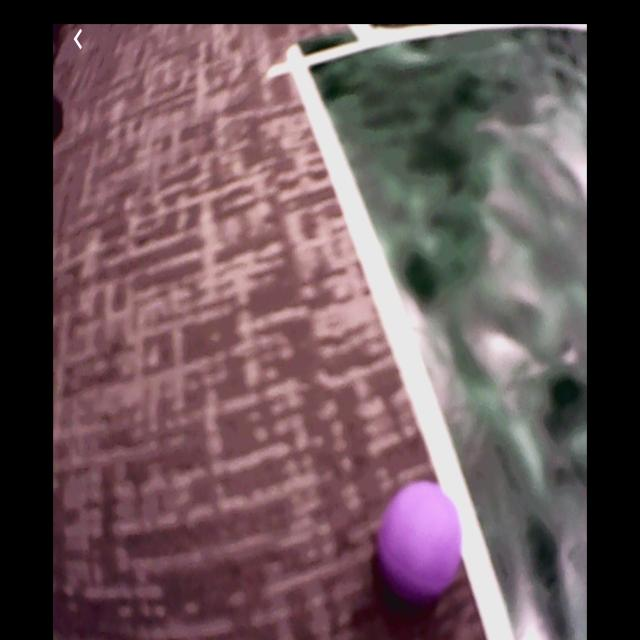ball: (377, 479, 464, 607)
